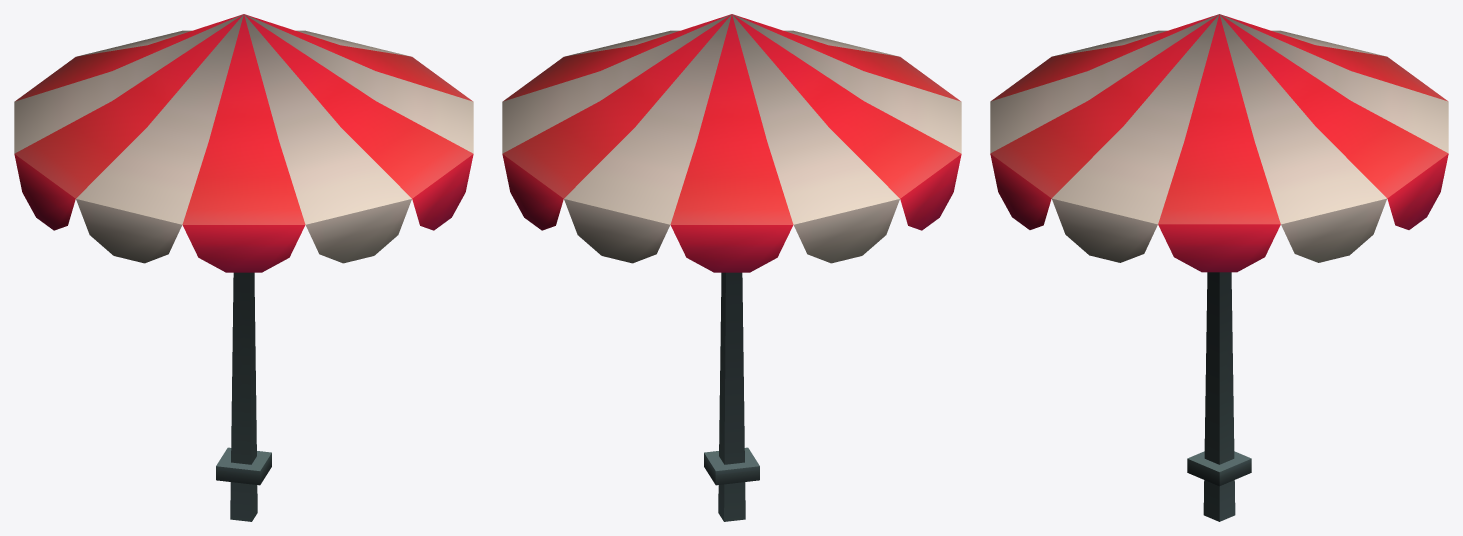
The model's file is Umbrella_2A.fbx.
3 renders of one model, left to right at view 1: azimuth 30°, elevation 25°; view 2: azimuth 150°, elevation 25°; view 3: azimuth 270°, elevation 25°, orthographic.
Visible parts, largest first — view 1: Umbrella_2A; view 2: Umbrella_2A; view 3: Umbrella_2A.
Boxes of the visible parts, x1=… form: Umbrella_2A: x1=14, y1=14, x2=473, y2=521; Umbrella_2A: x1=502, y1=14, x2=961, y2=521; Umbrella_2A: x1=990, y1=14, x2=1448, y2=521.
Size of the model in its own units: 366 by 442 by 366.
